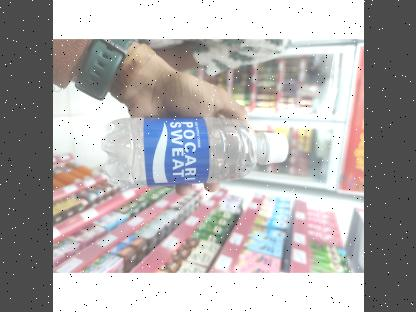Plastic Bottle: (99, 118, 288, 188)
